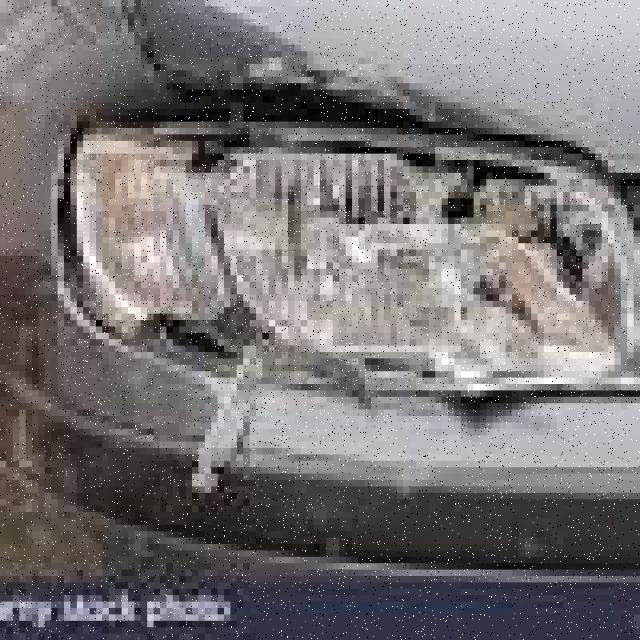Headlight-Damage: (0, 51, 634, 410)
